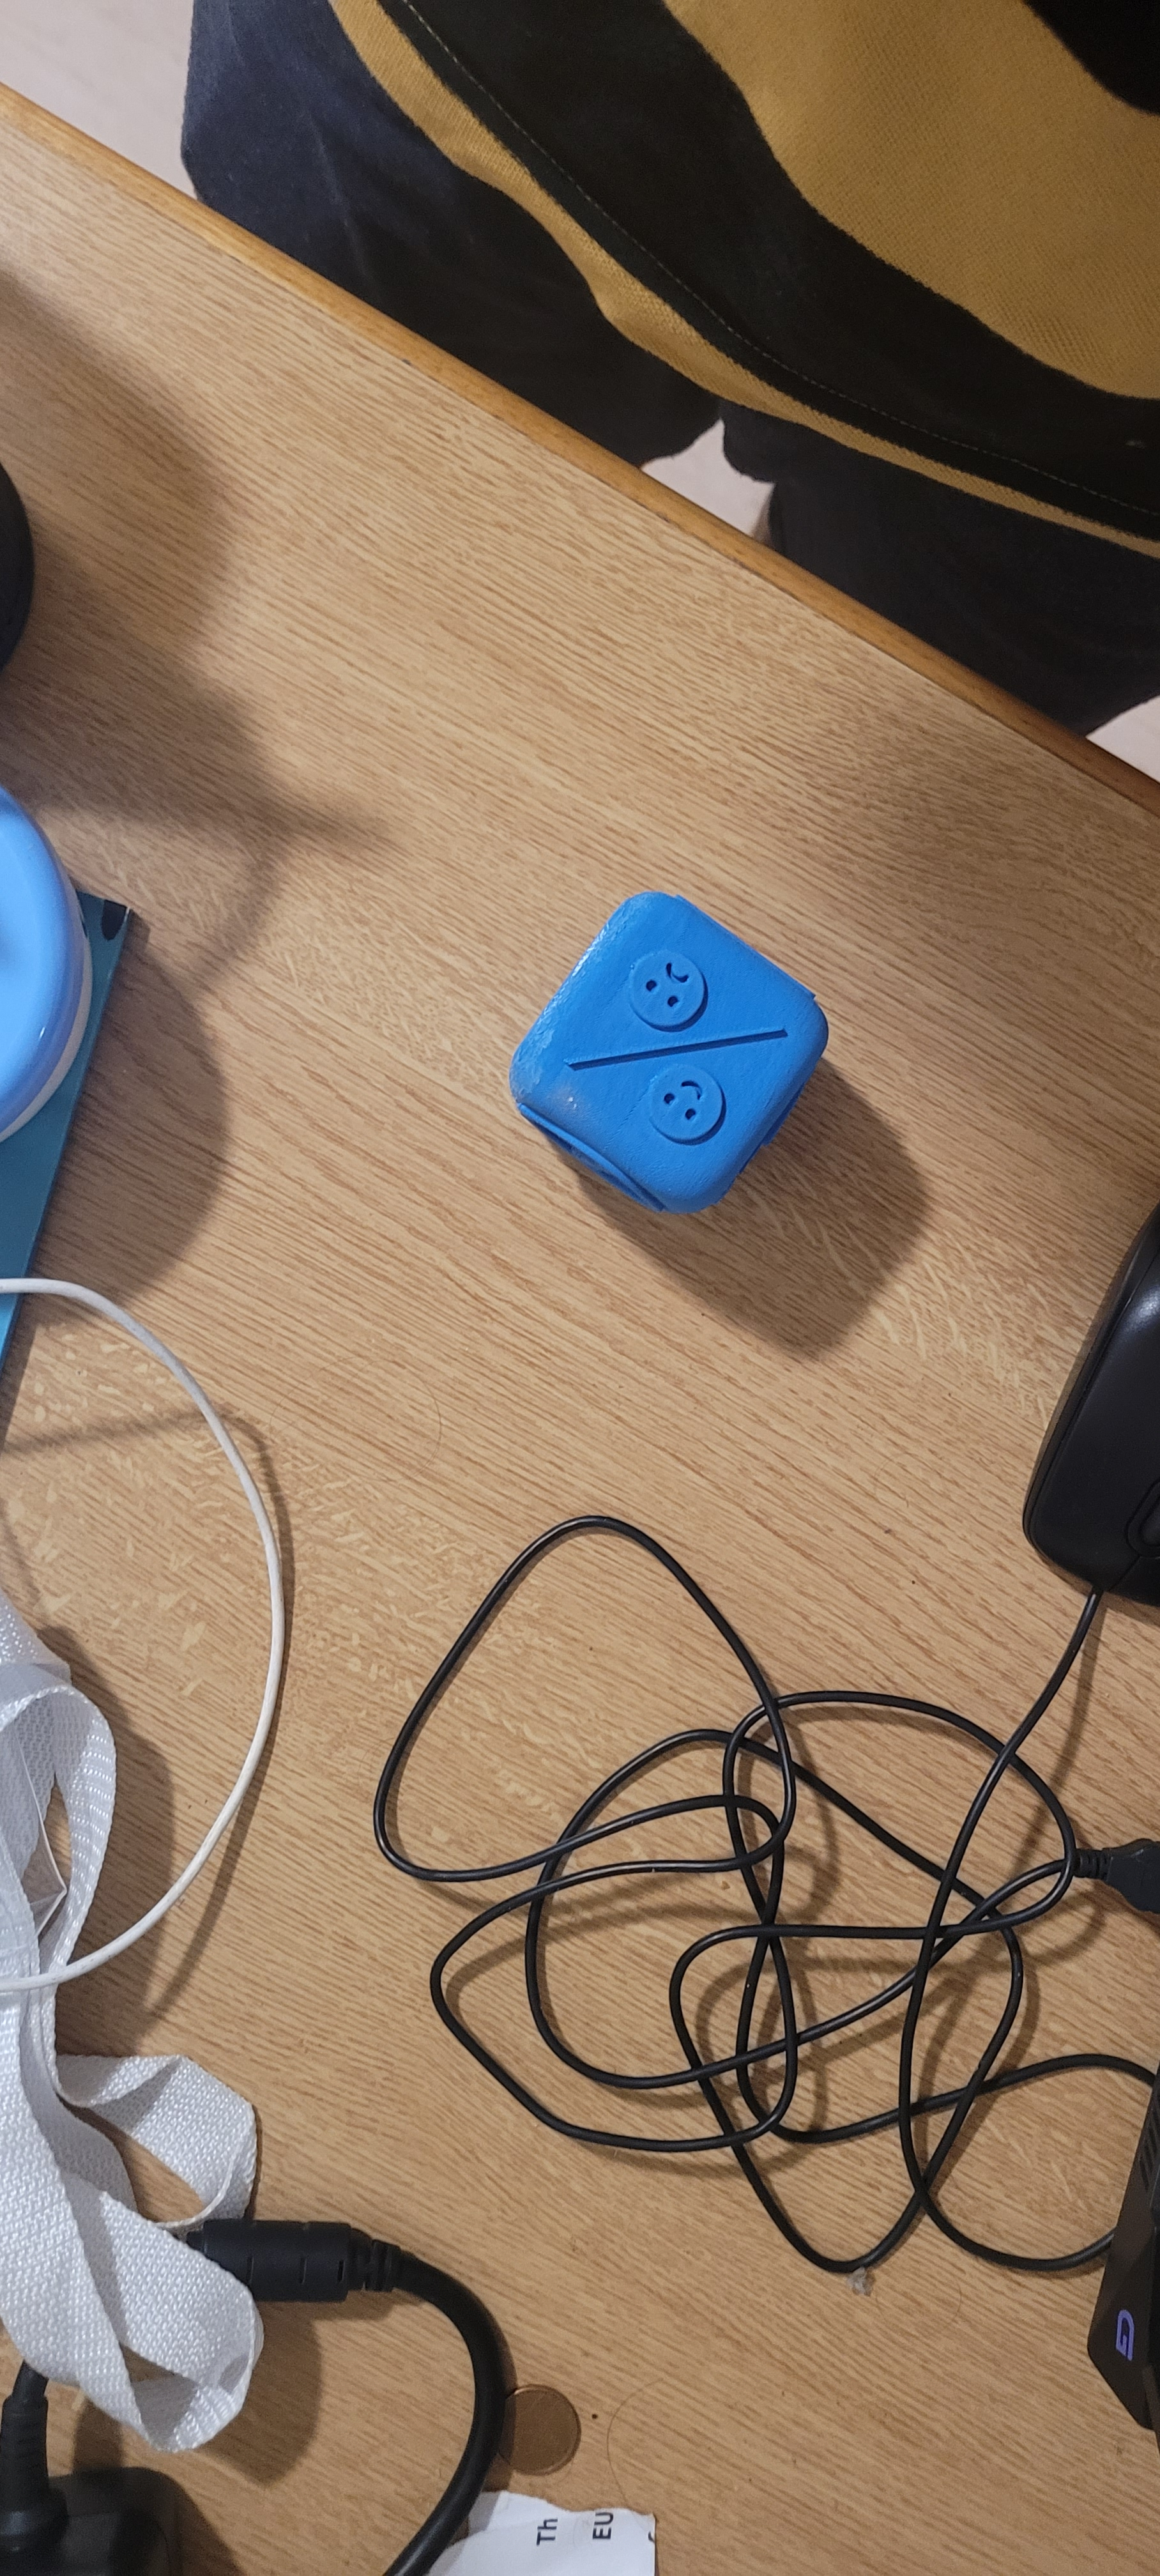Like/Dislike: (536, 871, 813, 1196)
